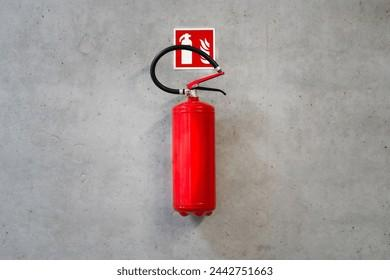wall-mounted: (139, 43, 233, 223)
